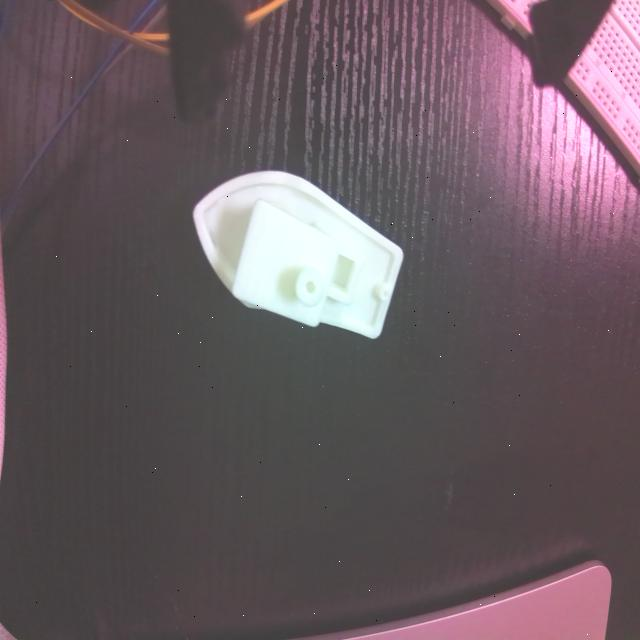ship: (194, 169, 404, 342)
